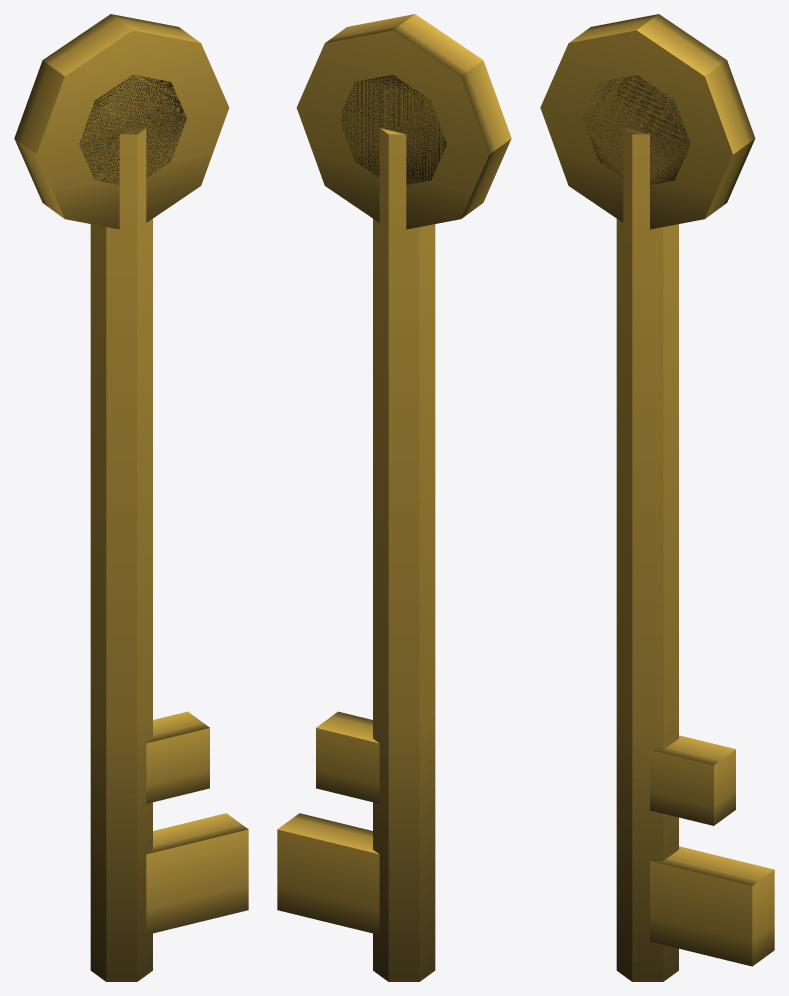
The model's file is key.gltf.
The picture shows the model from 3 angles, left to right: view 1: azimuth 30°, elevation 25°; view 2: azimuth 150°, elevation 25°; view 3: azimuth 330°, elevation 25°; orthographic projection.
Visible parts, largest first — view 1: key; view 2: key; view 3: key.
Boxes of the visible parts, x1,y1,x2,y2 form: key: [14, 14, 248, 981]; key: [277, 14, 511, 981]; key: [540, 14, 774, 981].
Bounding box in the file's own units: 0.11 × 0.47 × 0.028.
Materials: 1 (1 with a texture image).
